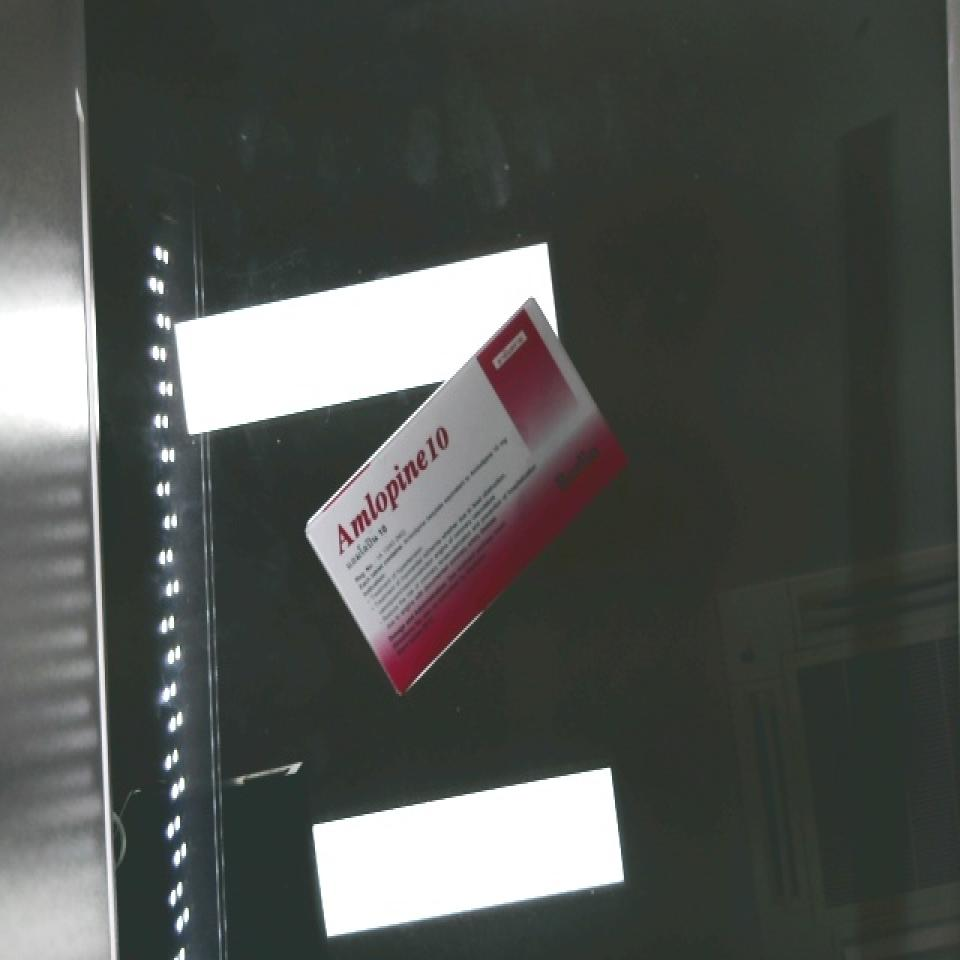medicine_box: (270, 298, 661, 689)
medicine_label_obb: (303, 386, 483, 575)
